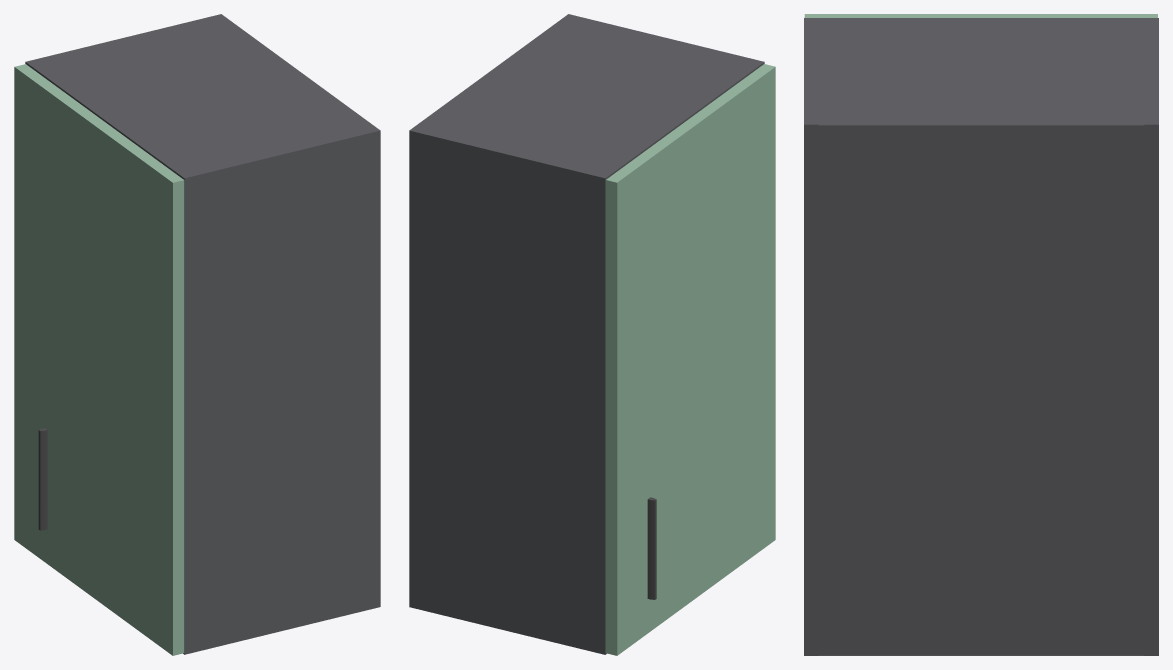
Rendered from closet_1.fbx.
The picture shows the model from 3 angles, left to right: view 1: azimuth 30°, elevation 25°; view 2: azimuth 150°, elevation 25°; view 3: azimuth 270°, elevation 25°; orthographic projection. The views are drawn at different scales.
Visible parts, largest first — view 1: closet_1; view 2: closet_1; view 3: closet_1.
Boxes of the visible parts, x1=… form: closet_1: x1=14, y1=14, x2=380, y2=655; closet_1: x1=409, y1=14, x2=775, y2=655; closet_1: x1=804, y1=14, x2=1158, y2=655.
Bounding box in the file's own units: 9.64 × 12.4 × 20.48.
